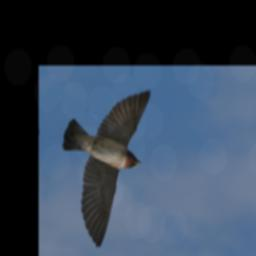Swallow: (51, 81, 152, 253)
